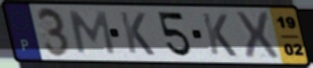3: (36, 5, 71, 59)
5: (155, 10, 193, 58)
K: (199, 11, 239, 59), (117, 10, 157, 57)
M: (67, 10, 118, 57)
X: (233, 10, 282, 61)
